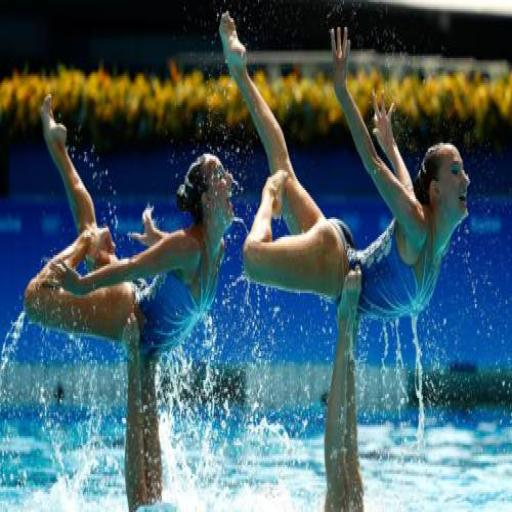swimming: (22, 91, 238, 510), (216, 9, 472, 324)
